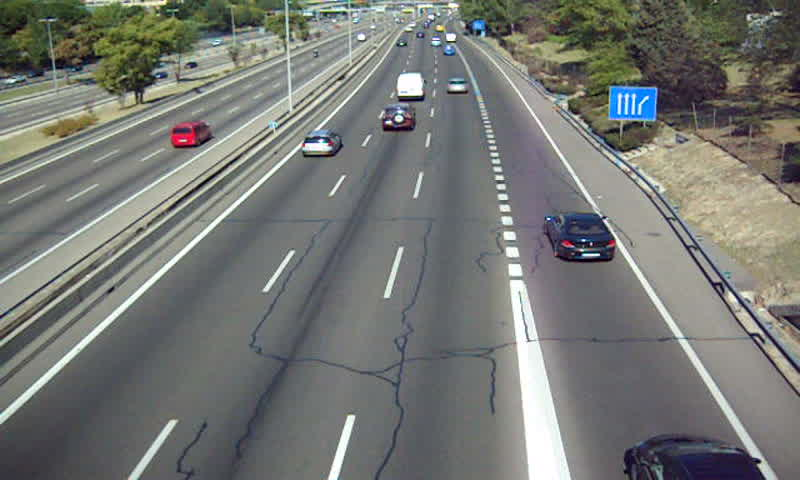car: (545, 213, 617, 261), (300, 129, 340, 157), (381, 103, 416, 131), (445, 77, 470, 95)
van: (396, 73, 426, 104)
